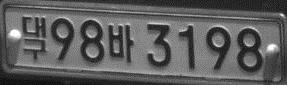1: (177, 25, 202, 69)
3: (146, 23, 171, 66)
8: (236, 28, 263, 72), (79, 19, 105, 62)
9: (205, 25, 231, 69), (50, 17, 75, 60)
대구_V: (21, 16, 48, 59)
바: (108, 24, 134, 62)
